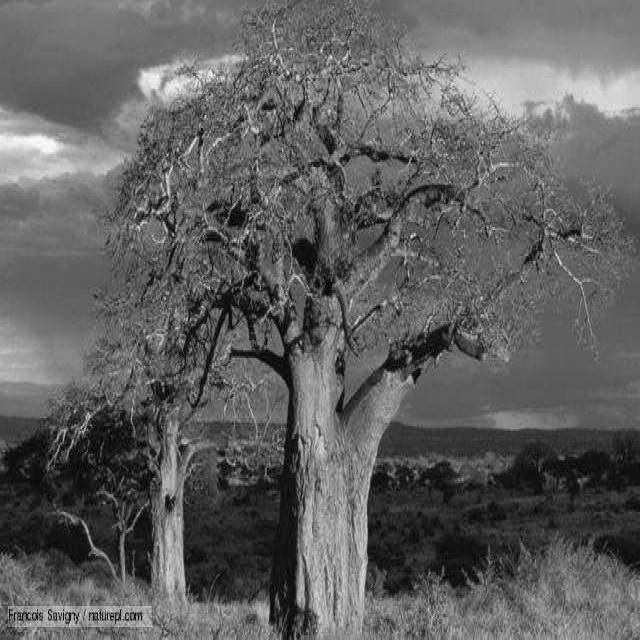Tree: (113, 4, 625, 637), (48, 249, 234, 605)
